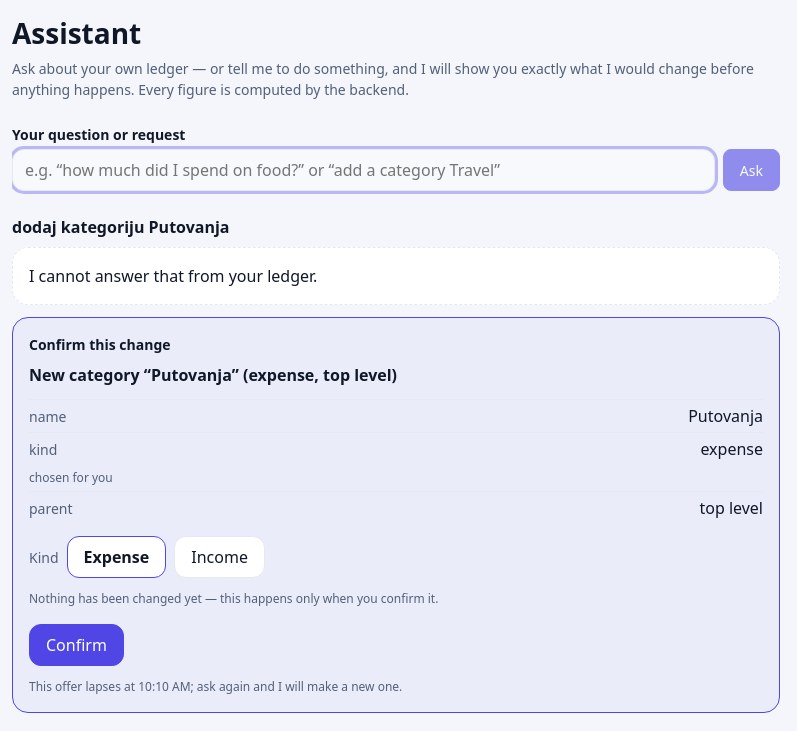
Test case: the assistant write path (B-2b) › reports a failed write as a write failure, not as the answer
Click the button with class "act__confirm": (76, 645) [29,624,124,666]
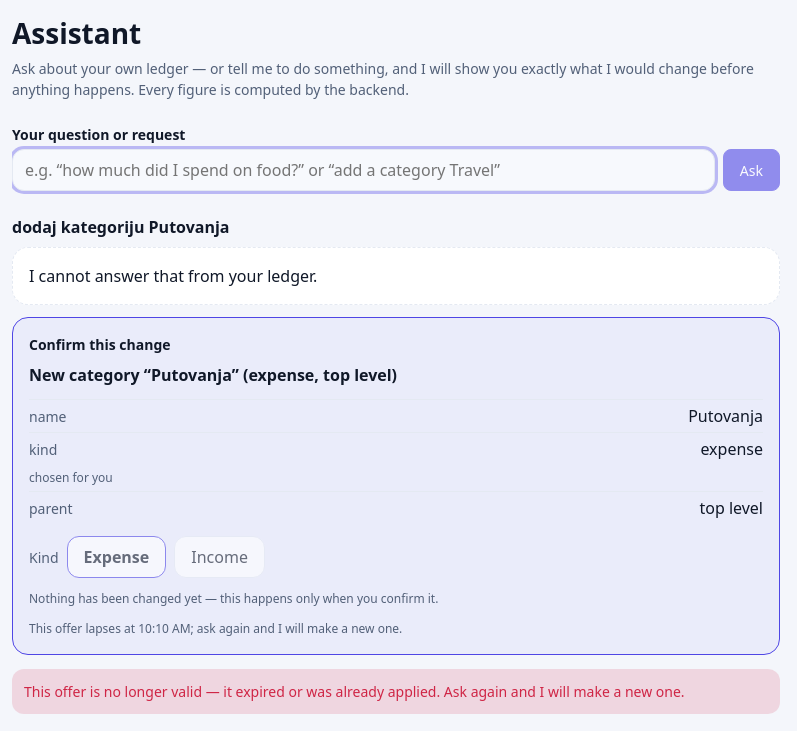
Check: the text "I cannot answer that from your ledger" is shown, box [29,265,317,287]
Check: the text "This offer is no longer valid" is shown, box [24,682,685,701]
Check: the button with class "act__confirm" is gone
